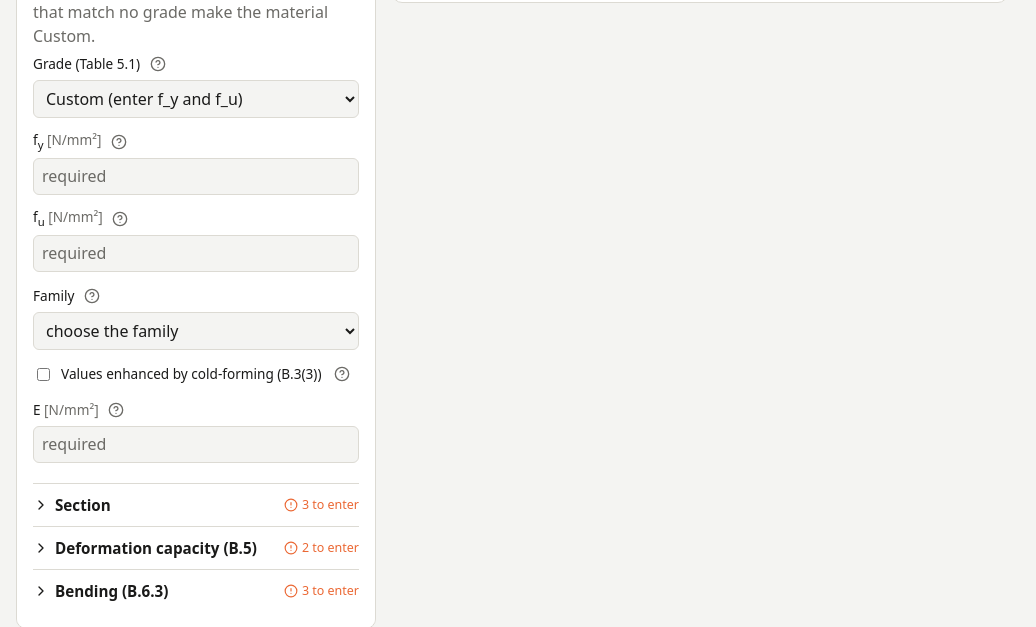
Scenario: the Section group › circular hollow section: its dimension fields, each with a ? button
The width and height of the screenshot is (1036, 627).
(page scrolled)
Click the button "Section 3 to enter" at (83, 505), box [33, 484, 359, 526]
(page scrolled)
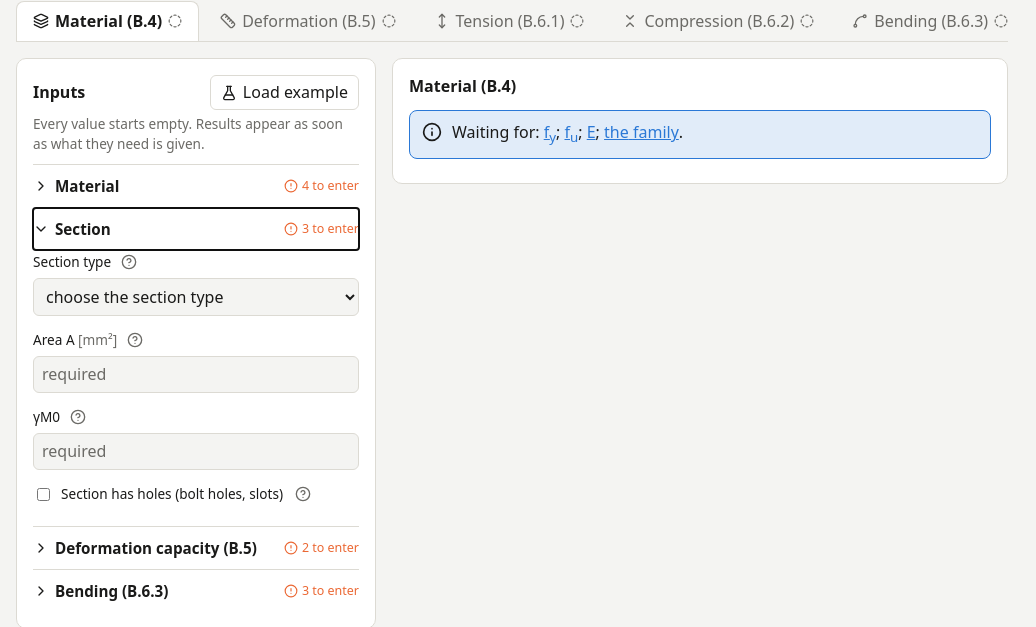
Select "Circular hollow section" in the dropdown labelled "Section type" at (196, 297), box [33, 278, 359, 316]
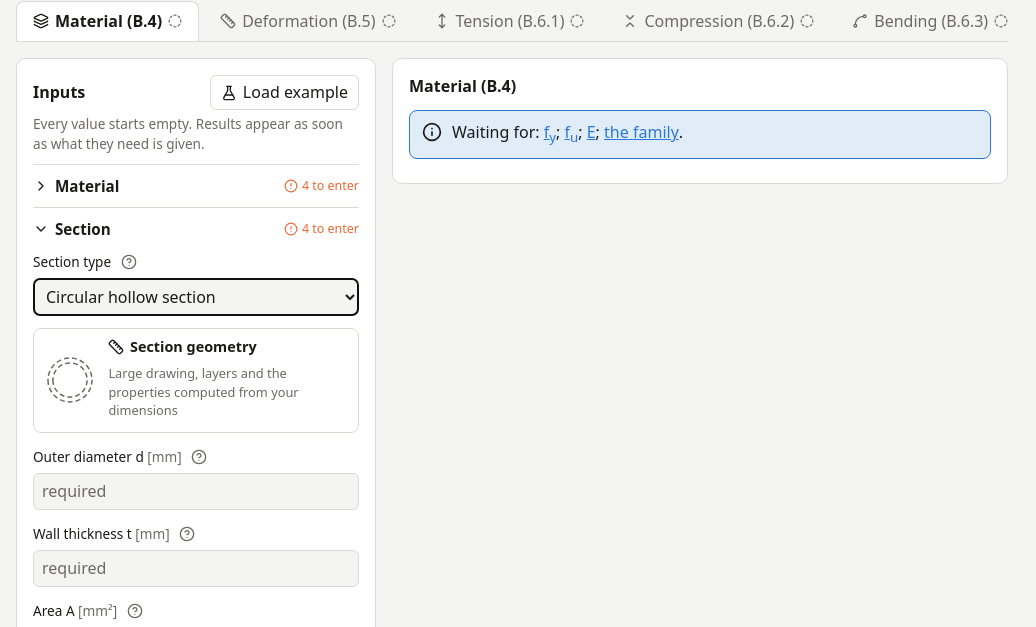
Check: the number field labelled "Wall thickness t [mm]" is not empty, box [33, 550, 359, 587]
Check: the button named "What is " is shown, box [175, 522, 199, 546]
